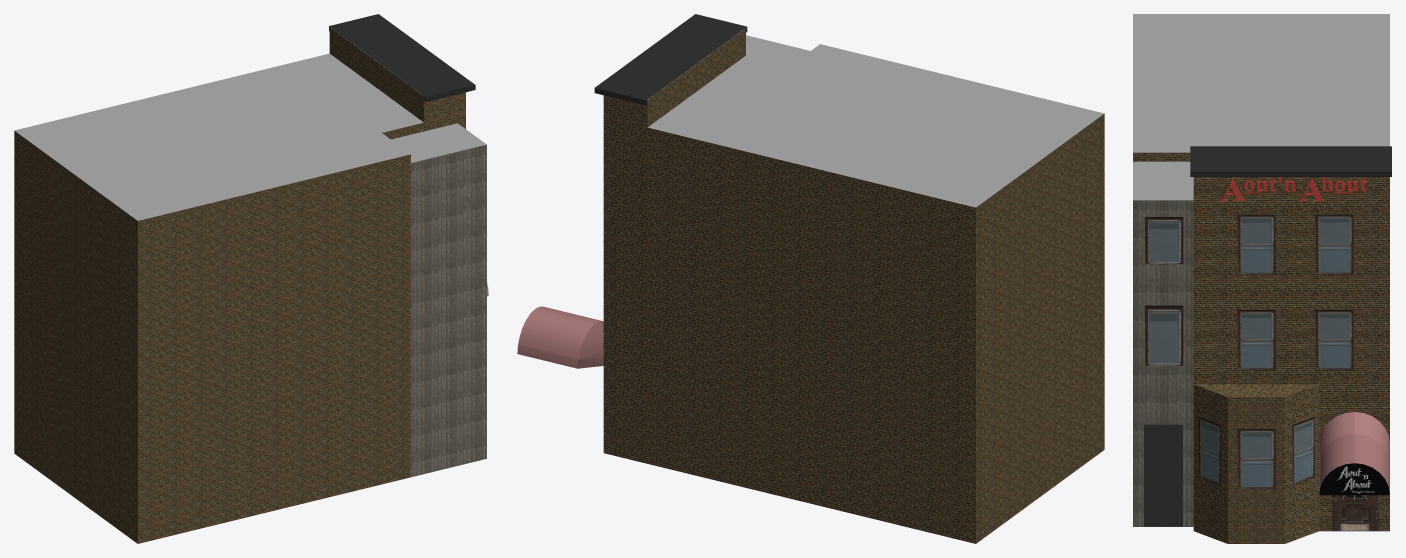
Rendered from 21Augusta.fbx.
The picture shows the model from 3 angles, left to right: view 1: azimuth 30°, elevation 25°; view 2: azimuth 150°, elevation 25°; view 3: azimuth 270°, elevation 25°; orthographic projection. The views are drawn at different scales.
Parts seen in each view (by area): view 1: SketchUp, SketchUp.004, SketchUp.005, Cube, SketchUp.002; view 2: SketchUp, SketchUp.004, Cube, SketchUp.009, SketchUp.002; view 3: SketchUp, SketchUp.004, SketchUp.005, Cube, Plane.004, Plane.009, SketchUp.002, Plane.005, Plane.006, Plane.007, Plane.008, Plane (+9 smaller).
Part boxes in pixels (bbox=[...]): SketchUp: bbox=[14, 27, 465, 543]; SketchUp.004: bbox=[14, 53, 423, 220]; SketchUp.005: bbox=[411, 144, 486, 477]; Cube: bbox=[329, 14, 475, 101]; SketchUp.002: bbox=[391, 123, 486, 162]; SketchUp: bbox=[603, 28, 1104, 543]; SketchUp.004: bbox=[648, 44, 1104, 207]; Cube: bbox=[594, 14, 747, 105]; SketchUp.009: bbox=[517, 309, 603, 368]; SketchUp.002: bbox=[746, 35, 809, 66]; SketchUp: bbox=[1133, 152, 1389, 543]; SketchUp.004: bbox=[1133, 14, 1389, 152]; SketchUp.005: bbox=[1133, 200, 1193, 526]; Cube: bbox=[1190, 146, 1391, 176]; Plane.004: bbox=[1144, 424, 1182, 526]; Plane.009: bbox=[1144, 305, 1183, 365]; SketchUp.002: bbox=[1133, 161, 1193, 200]; Plane.005: bbox=[1237, 310, 1275, 370]; Plane.006: bbox=[1315, 310, 1353, 370]; Plane.007: bbox=[1315, 214, 1353, 274]; Plane.008: bbox=[1237, 214, 1275, 274]; Plane: bbox=[1237, 429, 1275, 488].
Bounding box in the file's own units: 1593 × 1208 × 780.
